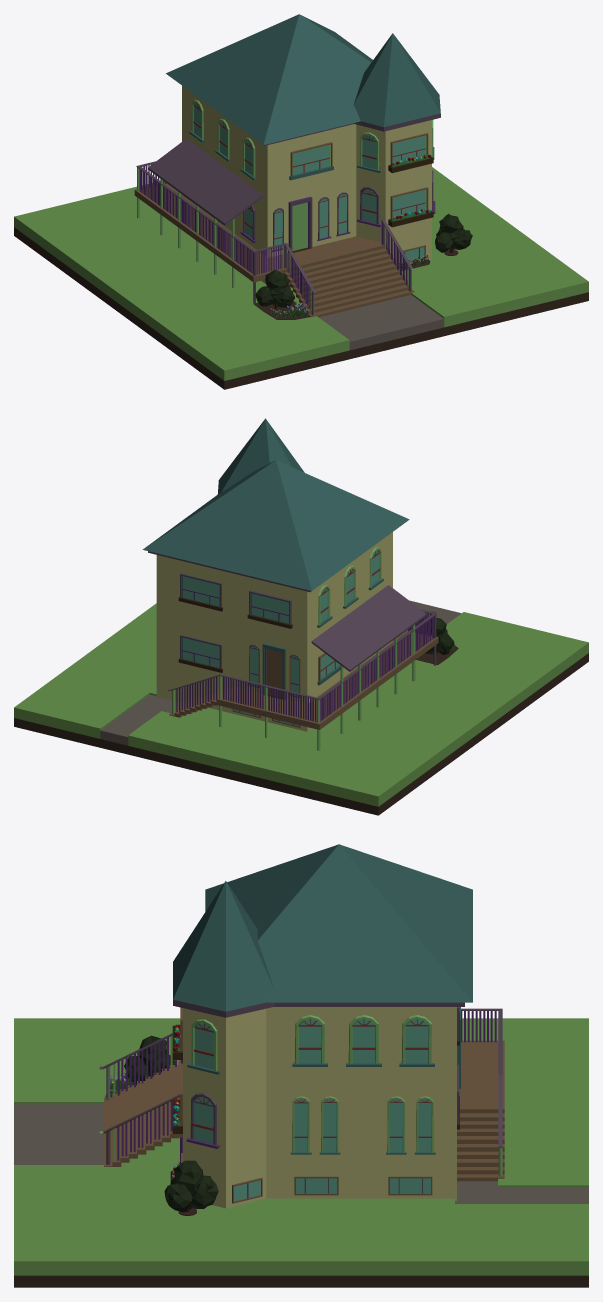
File: house_6.obj
3 renders of one model, top to bottom at view 1: azimuth 30°, elevation 25°; view 2: azimuth 150°, elevation 25°; view 3: azimuth 270°, elevation 25°, orthographic. The views are drawn at different scales.
Visible parts, largest first — view 1: house_6_h.001; view 2: house_6_h.001; view 3: house_6_h.001.
Part boxes in pixels (x1=…): house_6_h.001: x1=14, y1=14, x2=588, y2=389; house_6_h.001: x1=14, y1=418, x2=588, y2=815; house_6_h.001: x1=14, y1=844, x2=588, y2=1287.
Bounding box in the file's own units: 22 × 13.92 × 22.
